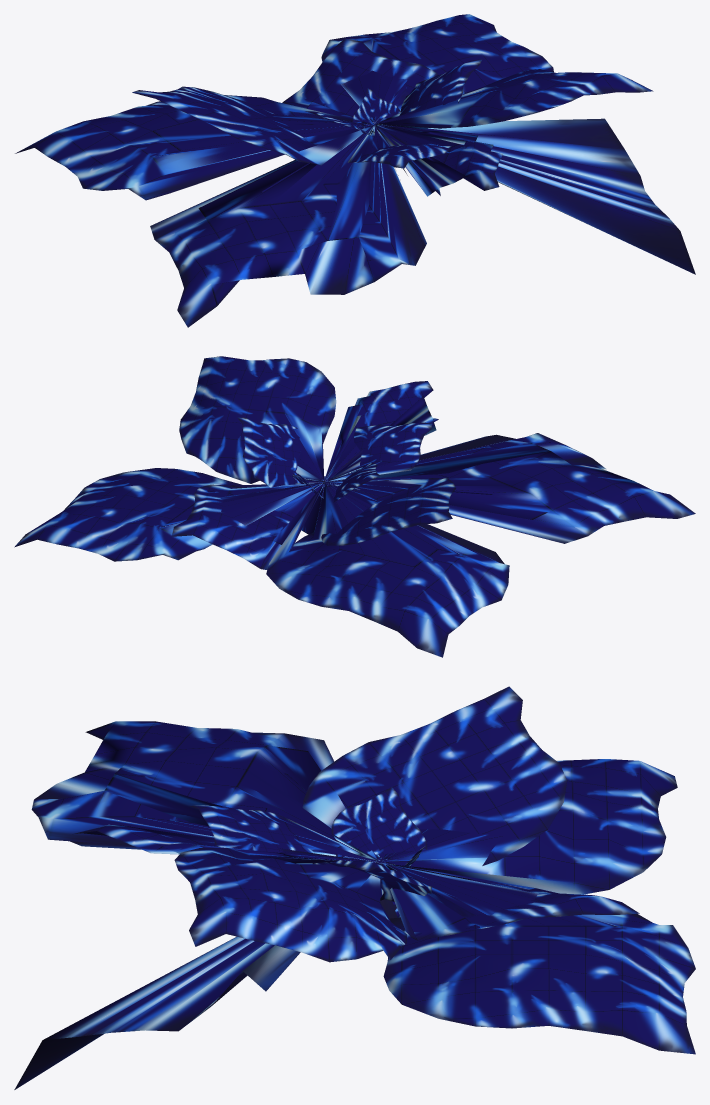
File: plant_2.fbx
The picture shows the model from 3 angles, top to bottom: view 1: azimuth 30°, elevation 25°; view 2: azimuth 150°, elevation 25°; view 3: azimuth 270°, elevation 25°; orthographic projection. The views are drawn at different scales.
Parts seen in each view (by area): view 1: pasted__pasted__pasted__pasted__pasted__leaf; view 2: pasted__pasted__pasted__pasted__pasted__leaf; view 3: pasted__pasted__pasted__pasted__pasted__leaf.
Part boxes in pixels (x1=…): pasted__pasted__pasted__pasted__pasted__leaf: x1=15, y1=14, x2=695, y2=327; pasted__pasted__pasted__pasted__pasted__leaf: x1=14, y1=356, x2=695, y2=657; pasted__pasted__pasted__pasted__pasted__leaf: x1=14, y1=686, x2=695, y2=1089.
Bounding box in the file's own units: 1168 × 305 × 1014.
Materials: 1 (1 with a texture image).
